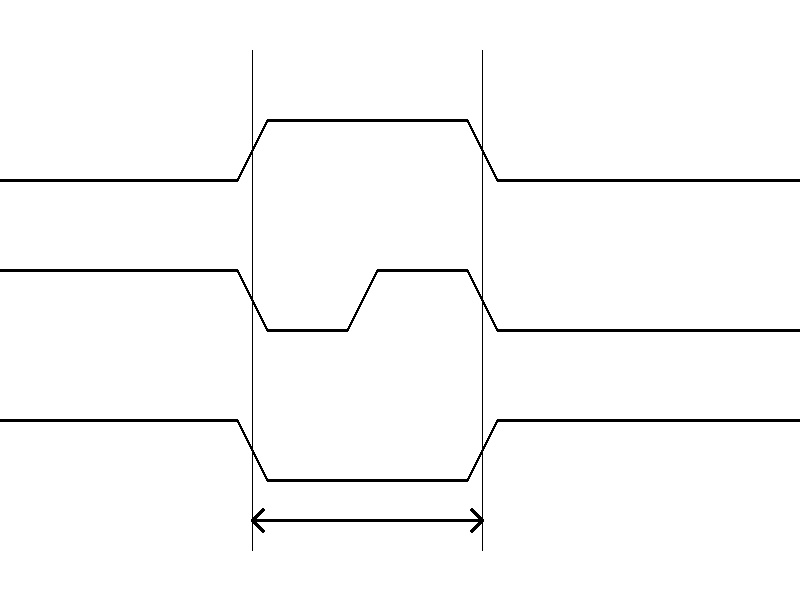double_arrow: (252, 505, 482, 535)
